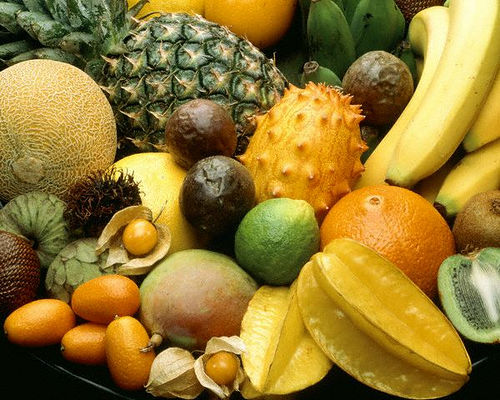pineapple: (0, 0, 294, 161)
